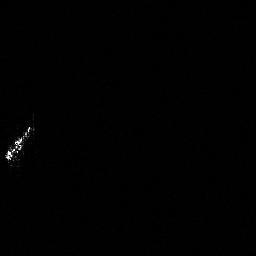ship: (4, 113, 35, 166)
